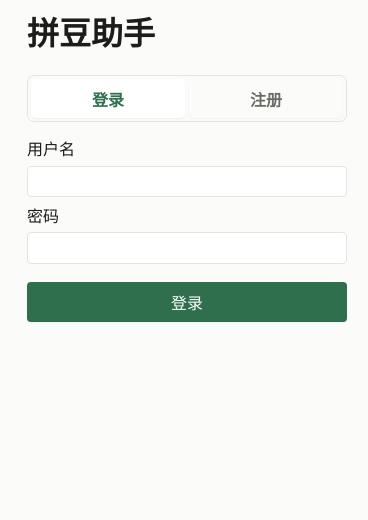
Test: LoginForm › register rejects a username the server would reject anyway
Click the tab "注册": (266, 99) [189, 79, 343, 118]
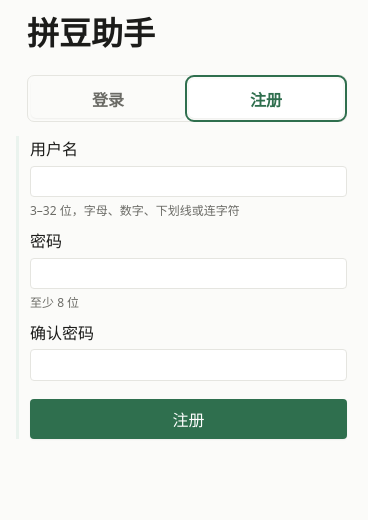
In the field labelled "用户名": (188, 182) [30, 166, 347, 197], type "ab"
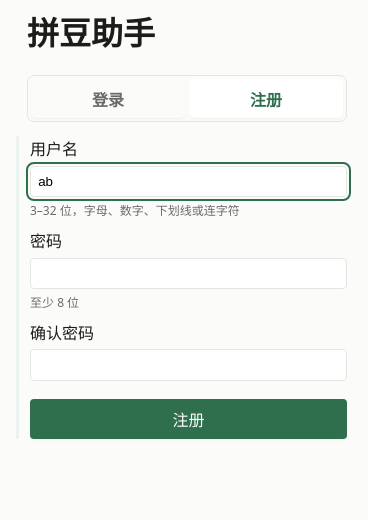
In the password field labelled "密码": (188, 273) [30, 258, 347, 289], type "password123"
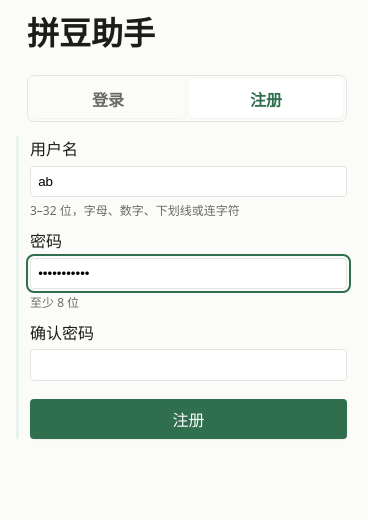
In the password field labelled "确认密码": (188, 365) [30, 349, 347, 381], type "password123"
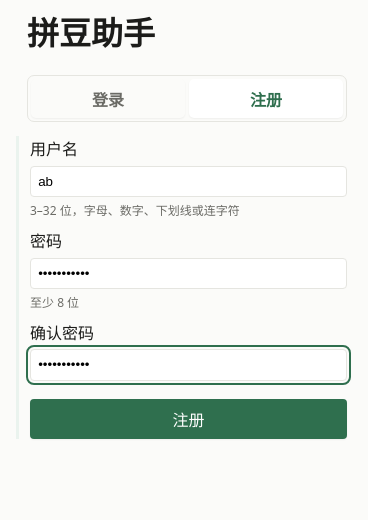
Click the button "注册": (188, 419) [30, 399, 347, 439]
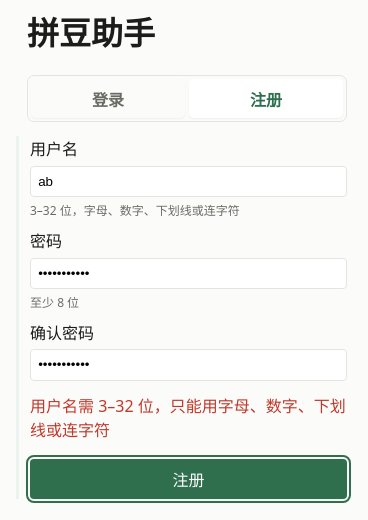
Check: the message shows "3–32 位", box [30, 395, 346, 441]
